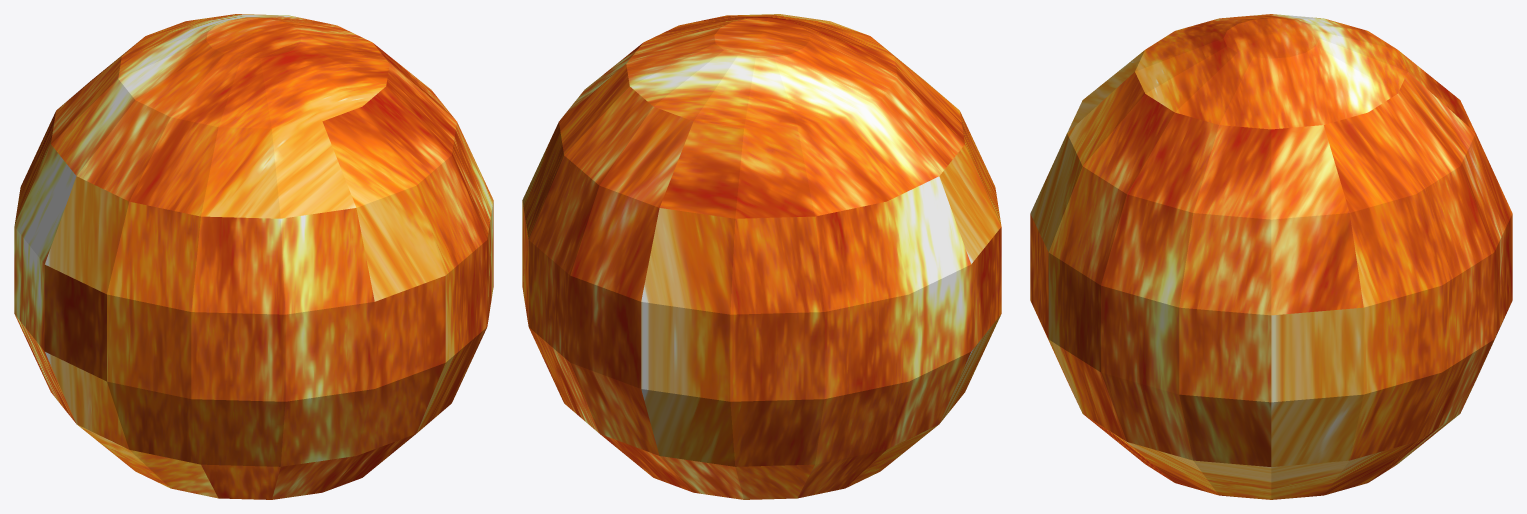
The model's file is Sun.glb.
3 views of the same model, side by side, from view 1: azimuth 30°, elevation 25°; view 2: azimuth 150°, elevation 25°; view 3: azimuth 270°, elevation 25° (orthographic).
Visible parts, largest first — view 1: Sphere; view 2: Sphere; view 3: Sphere.
Boxes of the visible parts, bbox=[...] form: Sphere: bbox=[14, 14, 493, 499]; Sphere: bbox=[522, 14, 1001, 499]; Sphere: bbox=[1030, 14, 1512, 499].
Bounding box in the file's own units: 1.96 × 2 × 1.96.
Materials: 1 (1 with a texture image).
